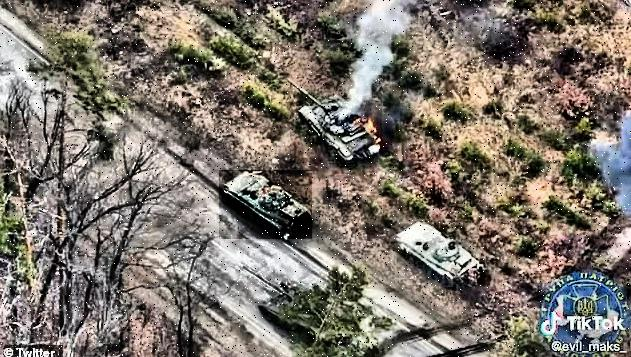military-vehicle: (291, 76, 383, 165), (219, 170, 312, 239), (395, 222, 479, 285)
